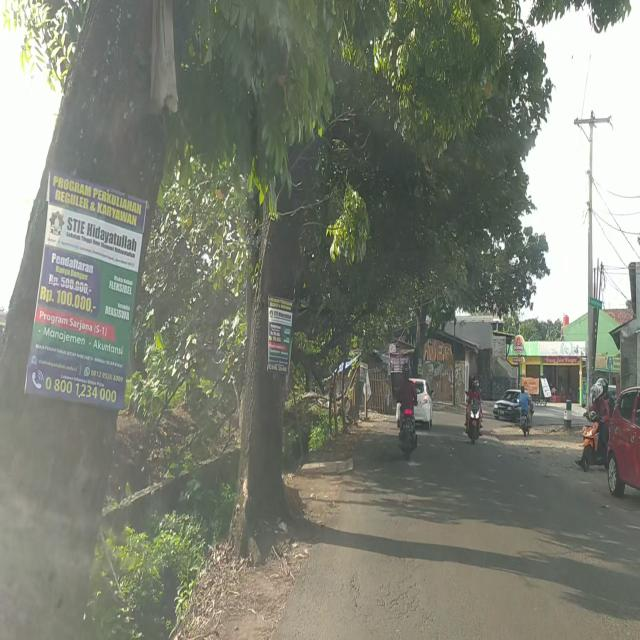Drain Hole: (361, 534, 436, 627)
